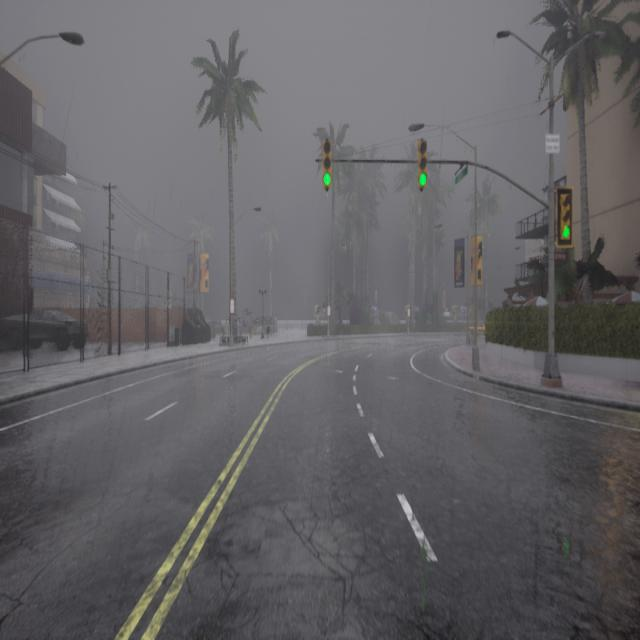9: (557, 187, 573, 244), (321, 137, 333, 190), (418, 137, 429, 191)
bien_hieu_lenh: (322, 170, 332, 188), (418, 171, 428, 188), (562, 225, 570, 241)
